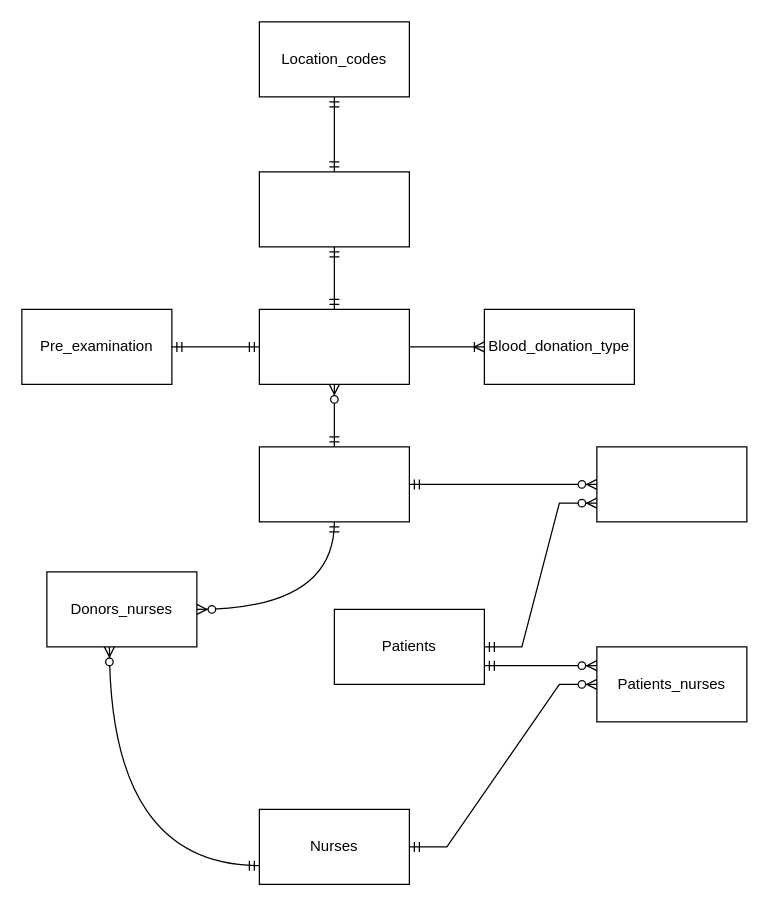
This 769x906 diagram has some shape labels left out. The box of each missing label's shape, as (x1, y1, x2, y2) in pixels:
Donation: (258, 308, 409, 384)
Donation_location: (258, 171, 409, 247)
Donors: (258, 446, 409, 522)
Donors_patients: (596, 446, 747, 522)
